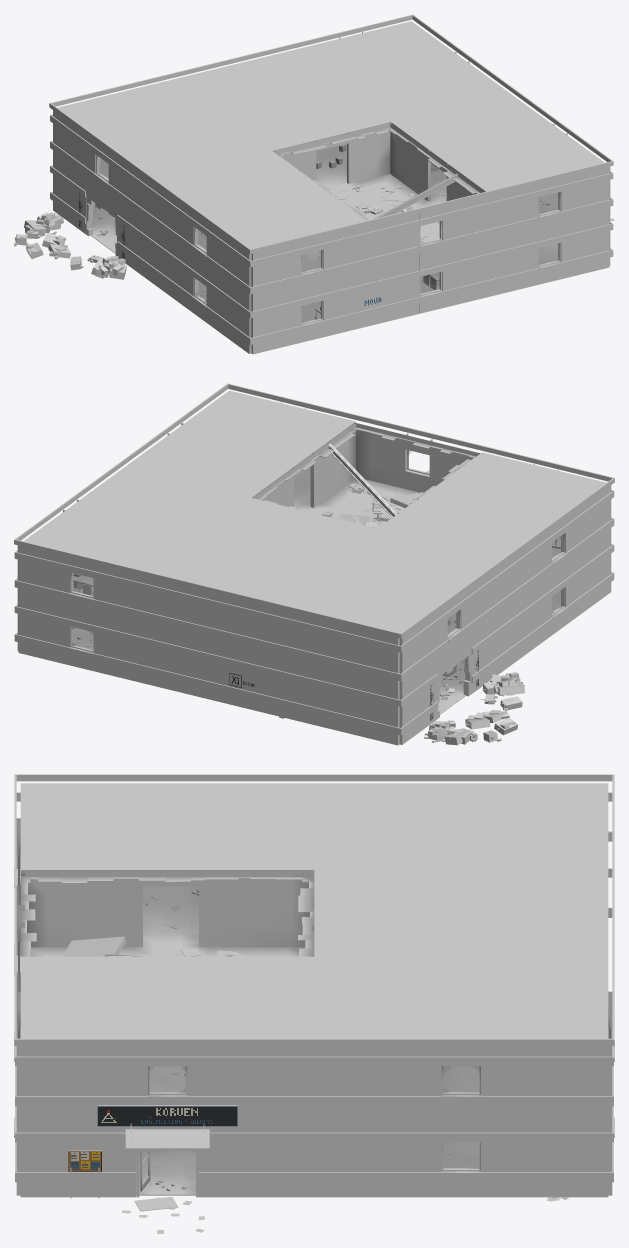
The model's file is offices.glb.
3 renders of one model, top to bottom at view 1: azimuth 30°, elevation 25°; view 2: azimuth 150°, elevation 25°; view 3: azimuth 270°, elevation 25°, orthographic. The views are drawn at different scales.
Parts seen in each view (by area): view 1: offices; view 2: offices; view 3: offices.
Part boxes in pixels (x1=…): offices: x1=14, y1=14, x2=614, y2=354; offices: x1=14, y1=383, x2=614, y2=745; offices: x1=14, y1=774, x2=614, y2=1233.
Bounding box in the file's own units: 29.49 × 6.54 × 21.48.
4 materials, 3 textured.
